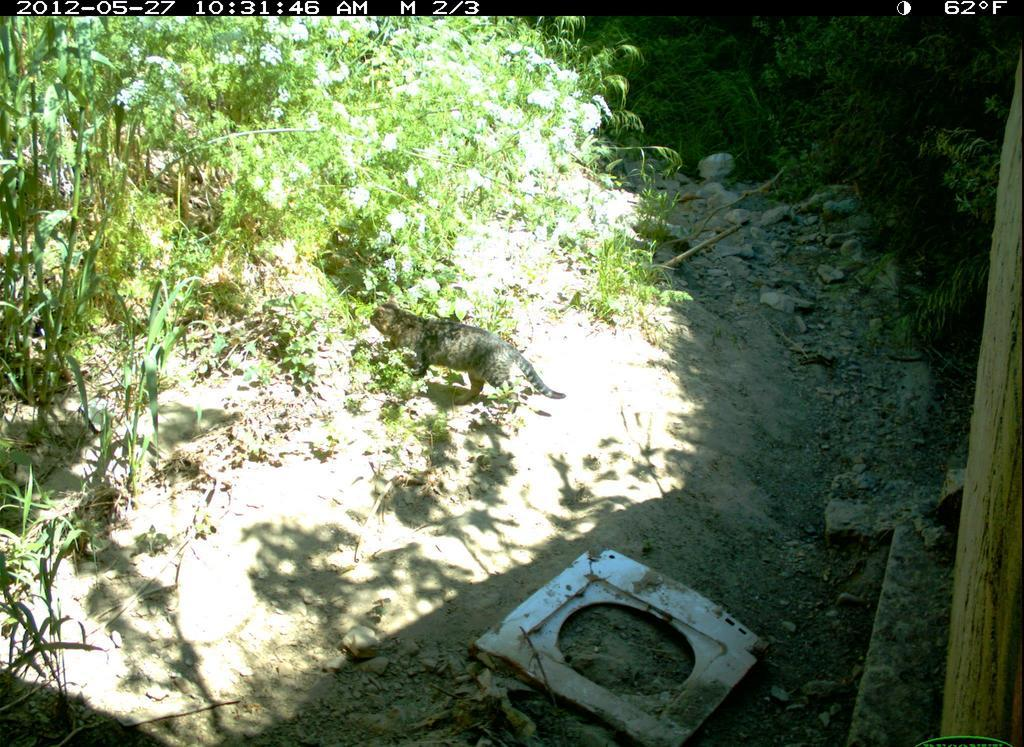cat: (369, 294, 570, 420)
